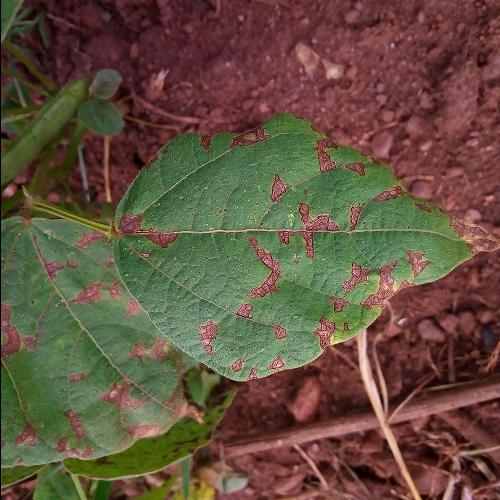hawar: (198, 146, 356, 334), (12, 250, 124, 452)
